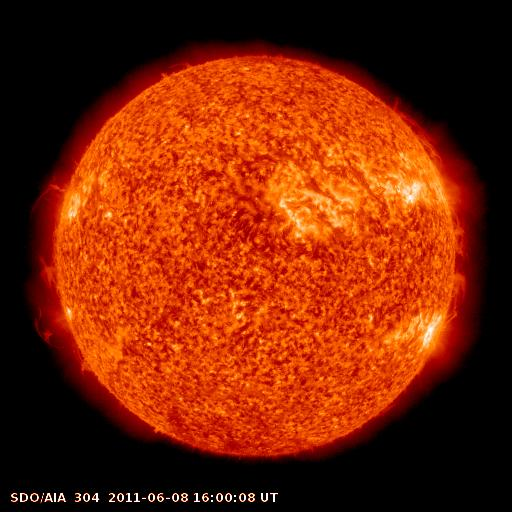prominence: (25, 176, 76, 349), (434, 202, 485, 329), (385, 86, 456, 169)
